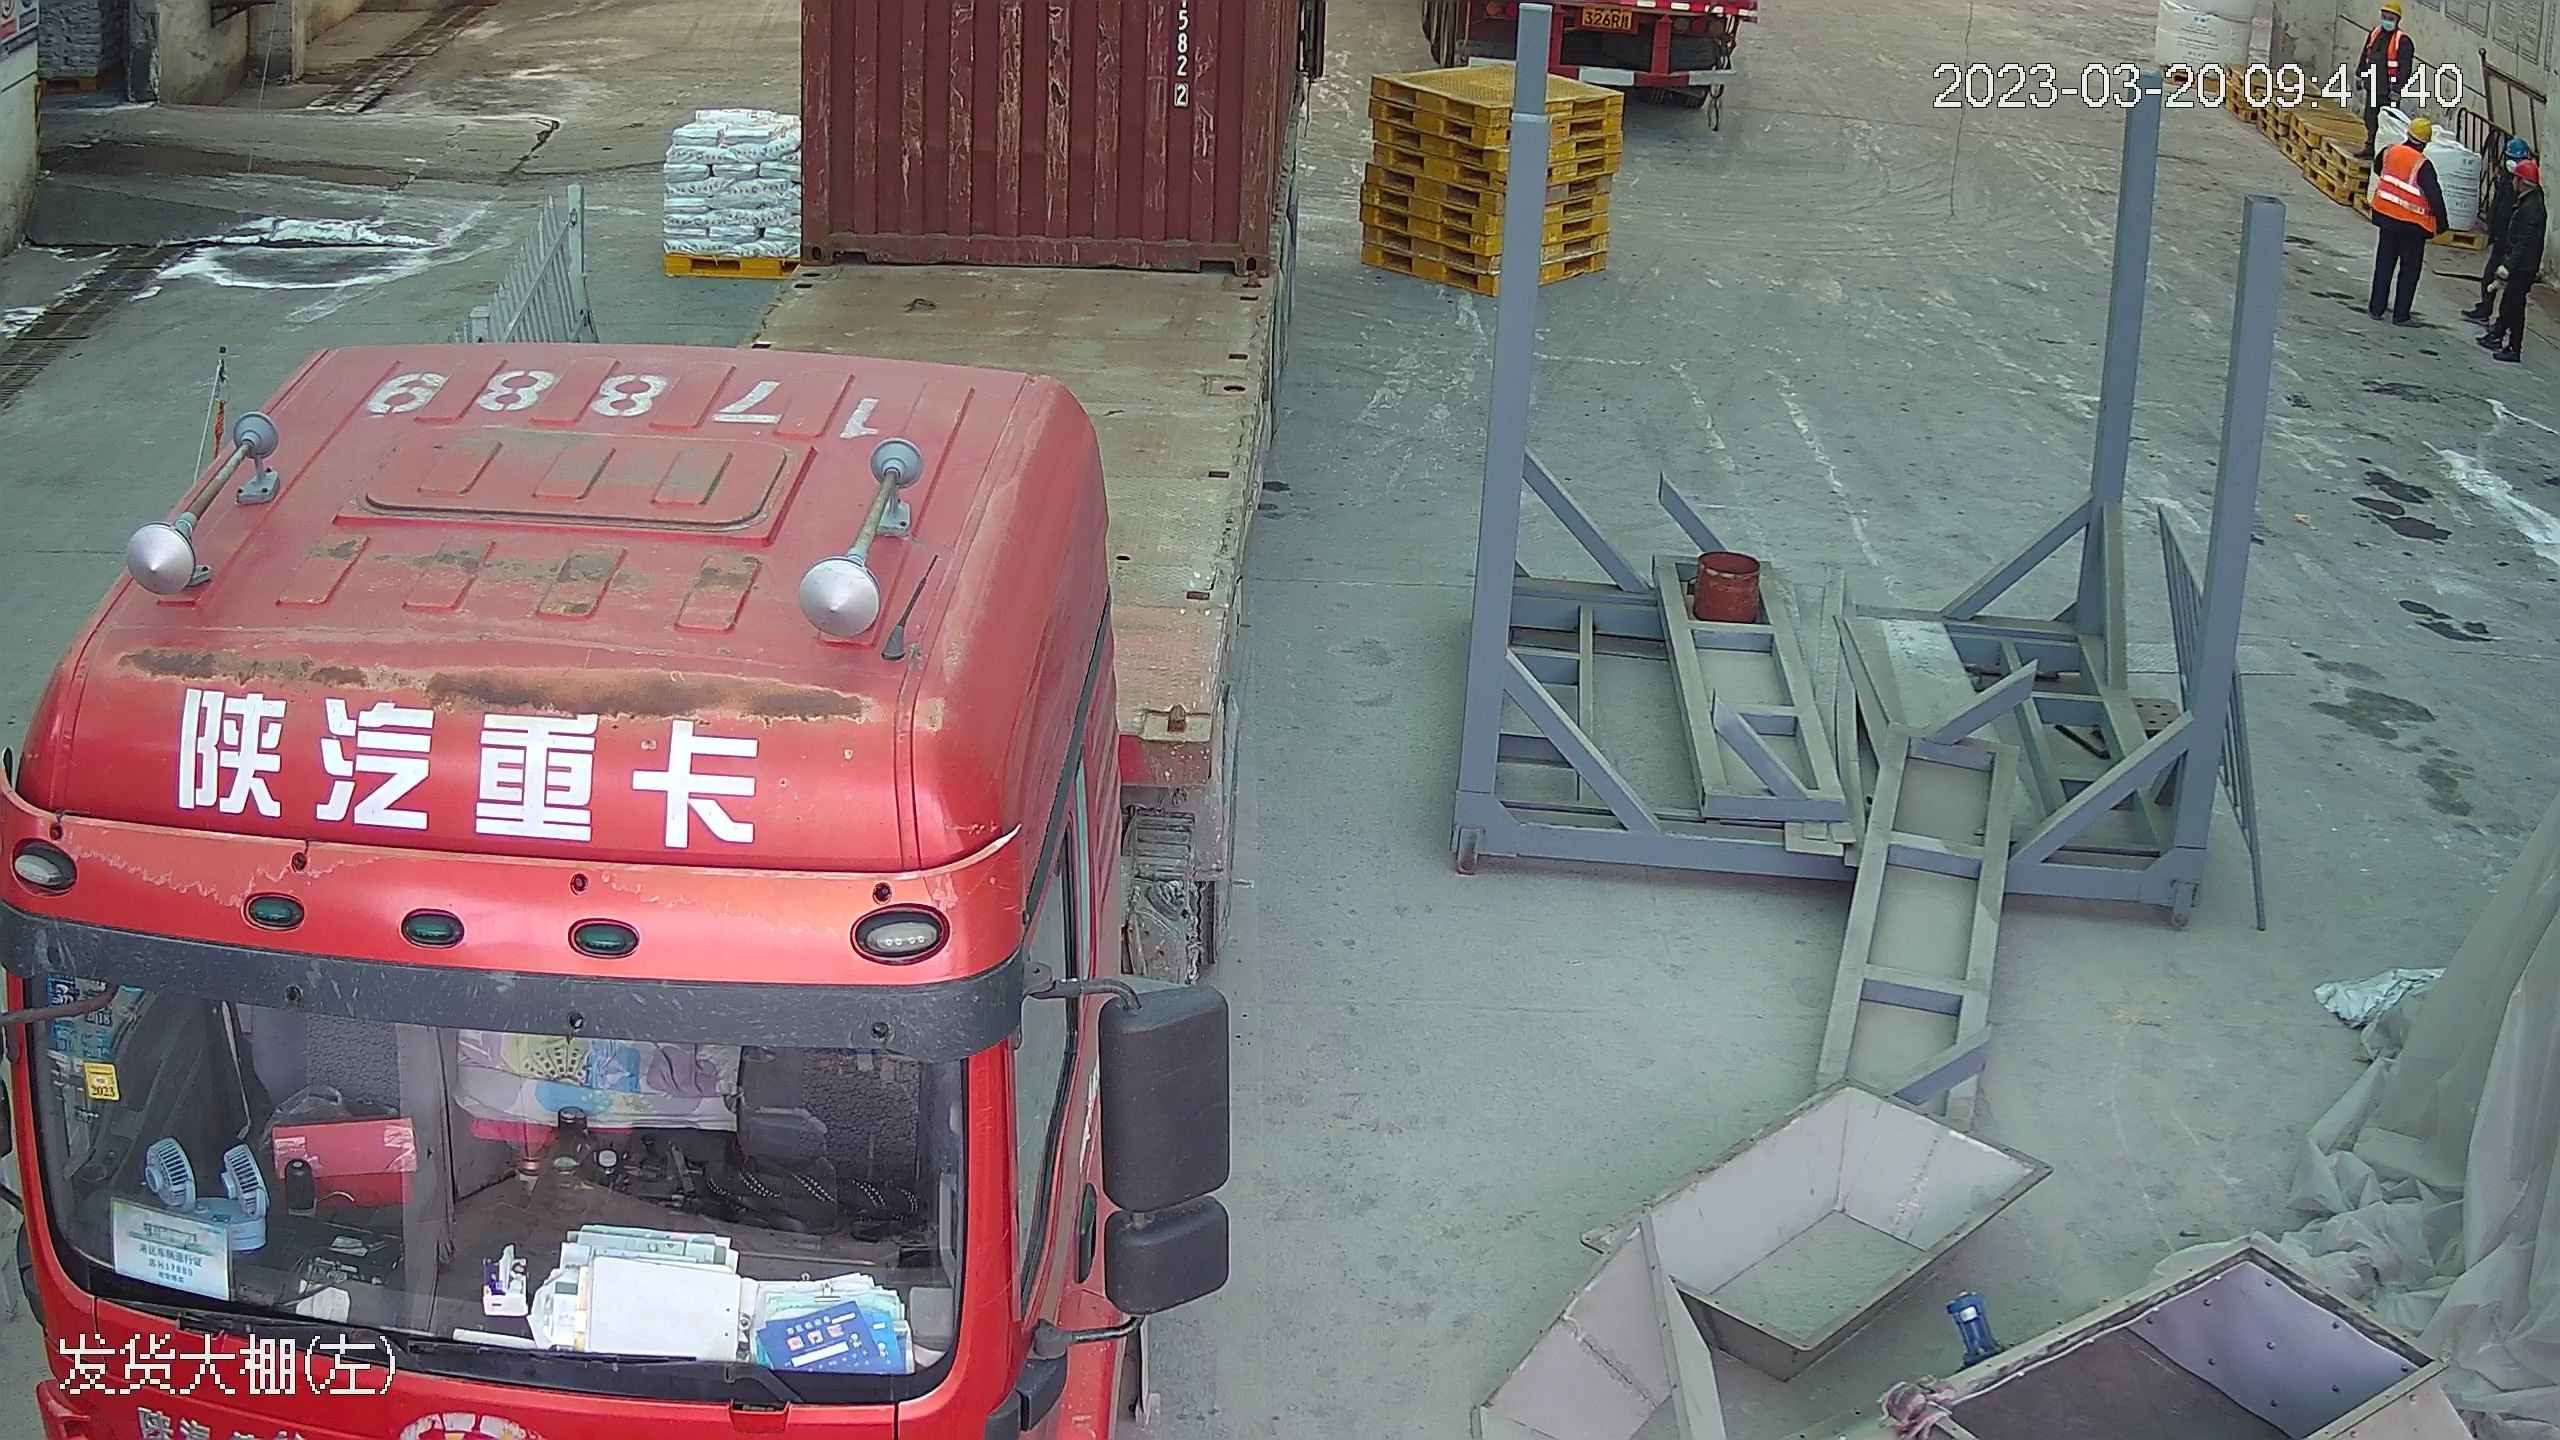head: (2376, 112, 2440, 180), (2491, 150, 2548, 222), (2359, 1, 2412, 53)
helmet: (2511, 158, 2541, 184), (2404, 114, 2436, 139), (2506, 137, 2535, 159), (2377, 1, 2403, 21)
people: (2358, 108, 2448, 329), (2472, 148, 2549, 364), (2345, 1, 2416, 144)
truck: (8, 1, 1287, 1440)
